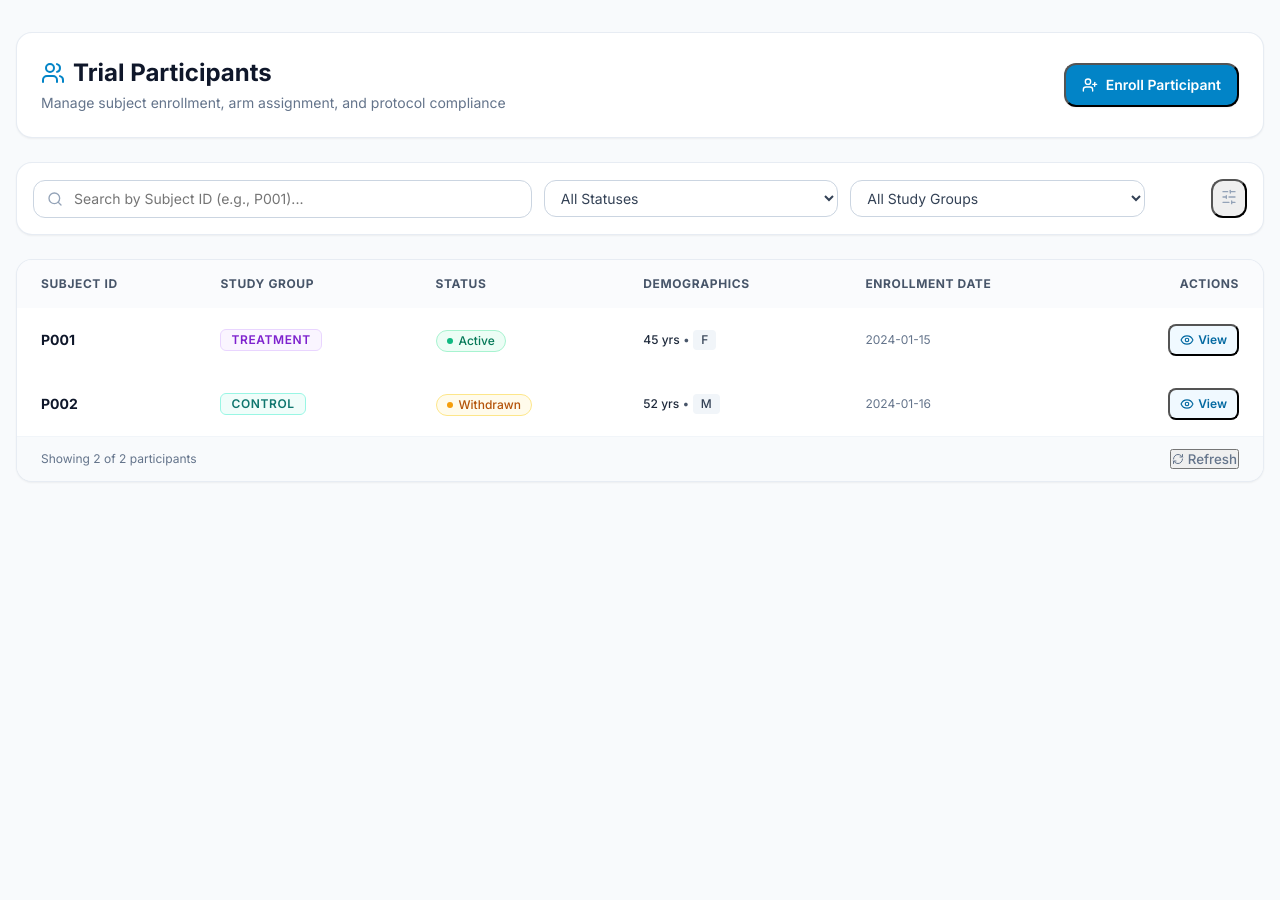
Test case: ParticipantsPage › opens participant details modal when View is clicked
Expected: the text "P001" is shown, x1=17 y1=308 x2=196 y2=372
Click the button "View" in the row of "P001" at (1204, 340), box x1=1168 y1=324 x2=1239 y2=356
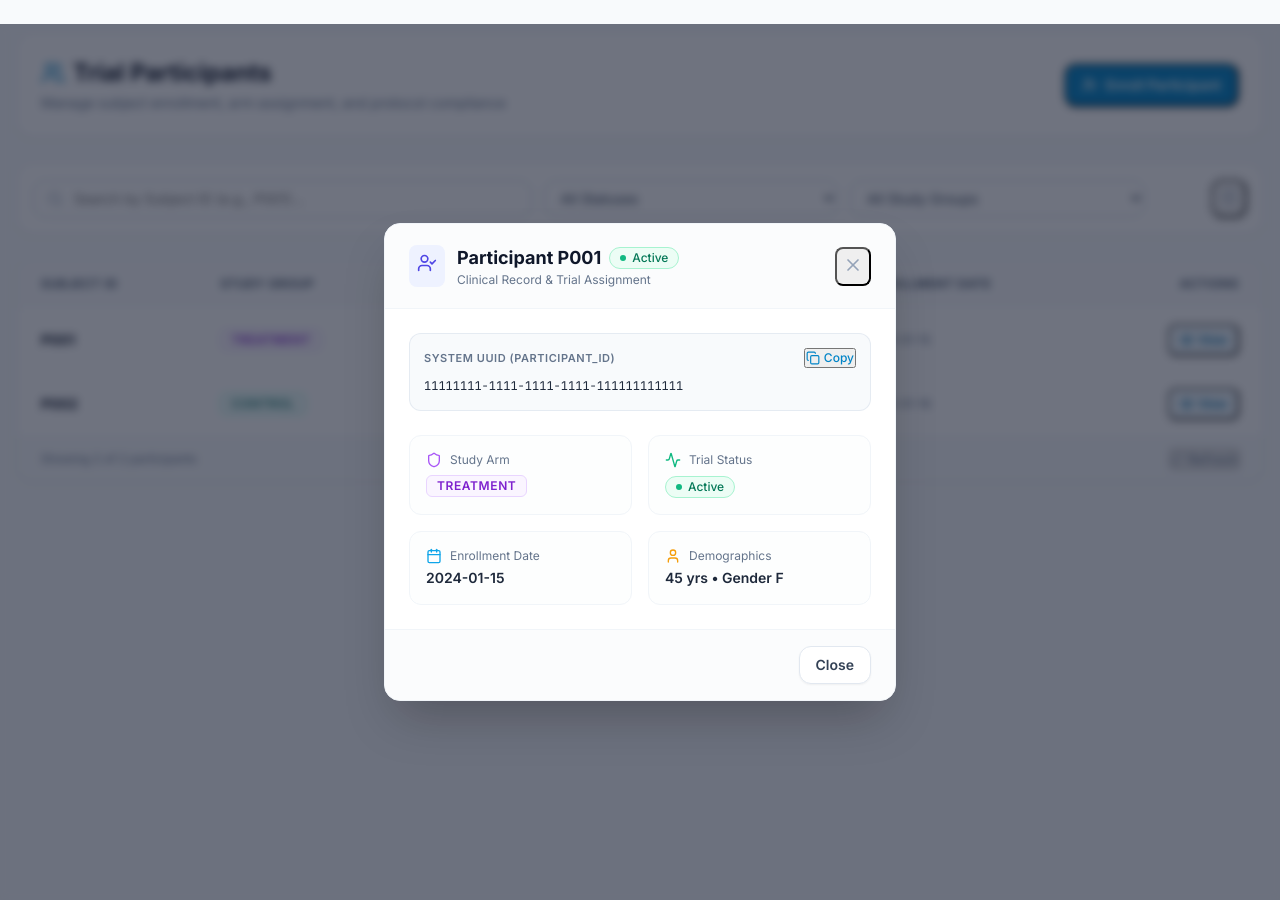
Now the heading "Participant P001" is shown, box x1=457 y1=244 x2=601 y2=272
Now the text "11111111-1111-1111-1111-111111111111" is shown, box x1=424 y1=378 x2=683 y2=394
